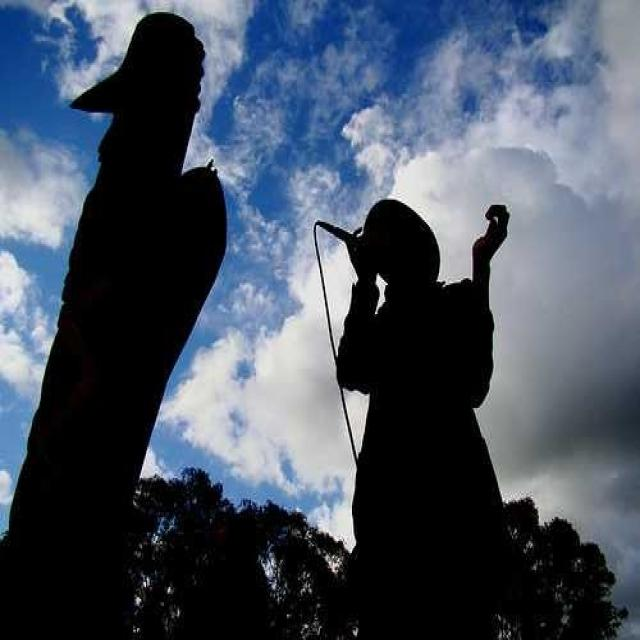microphone: (313, 219, 364, 259)
